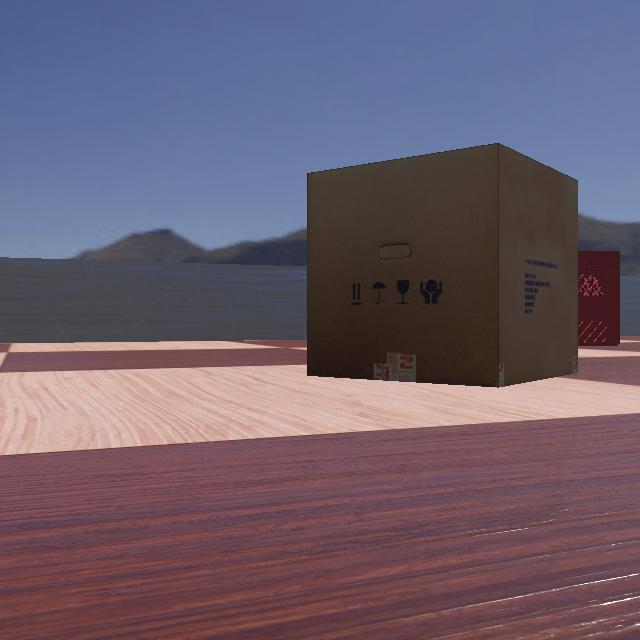cardboard-box: (303, 142, 639, 388)
